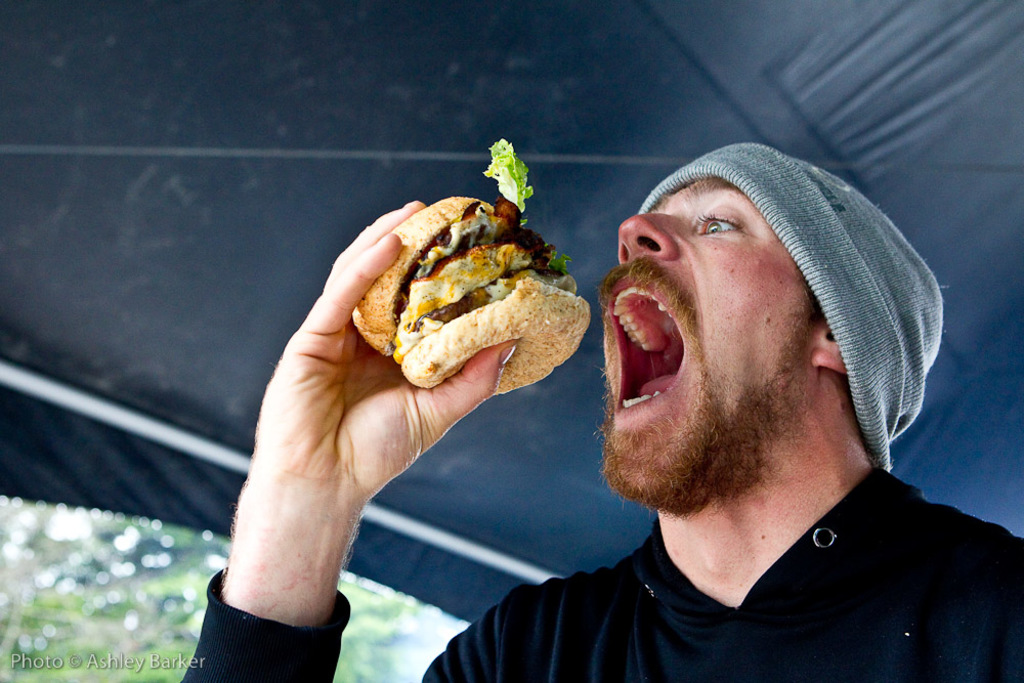Hamburger: (351, 138, 592, 395)
